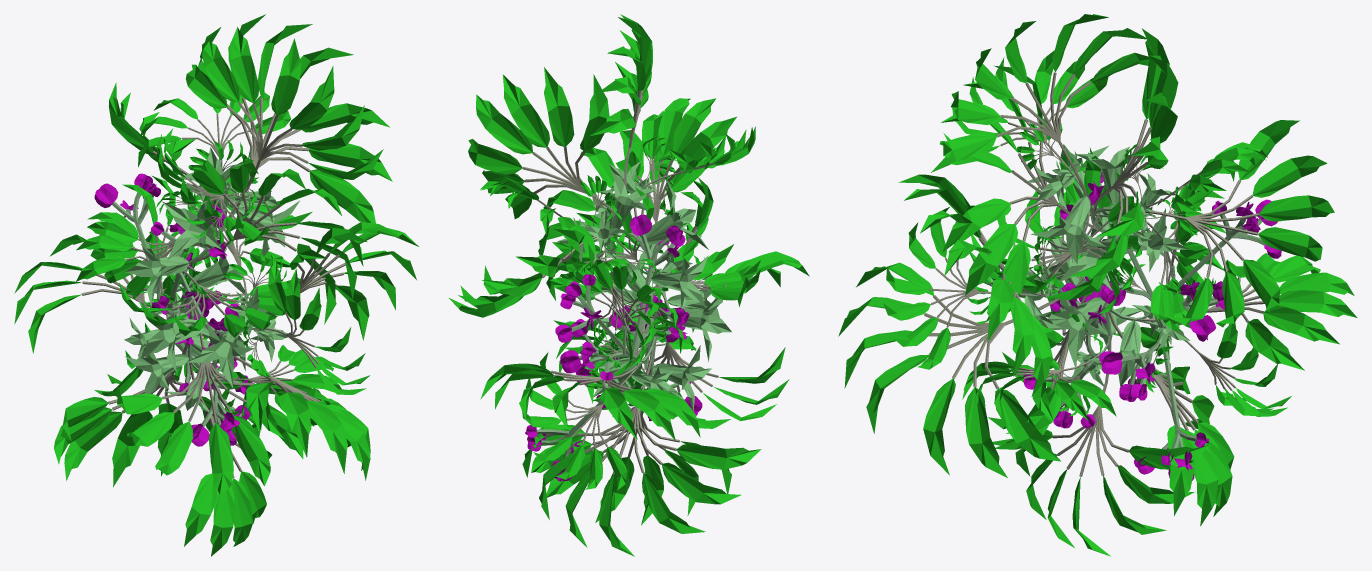
3 views of the same model, side by side, from view 1: azimuth 30°, elevation 25°; view 2: azimuth 150°, elevation 25°; view 3: azimuth 270°, elevation 25° (orthographic). The views are drawn at different scales.
Visible parts, largest first — view 1: 1Newplan; view 2: 1Newplan; view 3: 1Newplan.
Part boxes in pixels (x1,y1,x2,y2): 1Newplan: (14, 14, 418, 556); 1Newplan: (449, 14, 809, 556); 1Newplan: (838, 14, 1357, 556).
Bounding box in the file's own units: 156 × 245 × 210.
